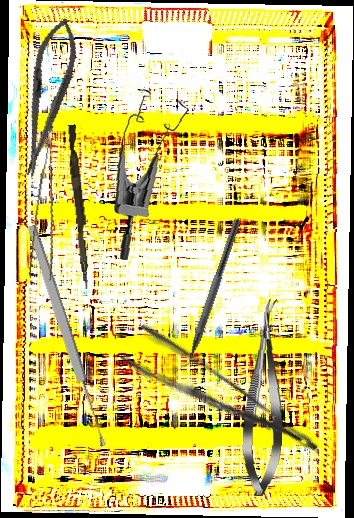Chopper: (172, 214, 242, 379)
Dressing Forceps: (118, 319, 323, 483)
Micro Scissor: (239, 298, 290, 497)
Needle Holder: (8, 14, 86, 180)
Pusher: (63, 124, 96, 290)
Speculum: (103, 84, 202, 261)
Surgical Spoon: (24, 223, 110, 449)
Tissue Forceps: (20, 125, 80, 282)
